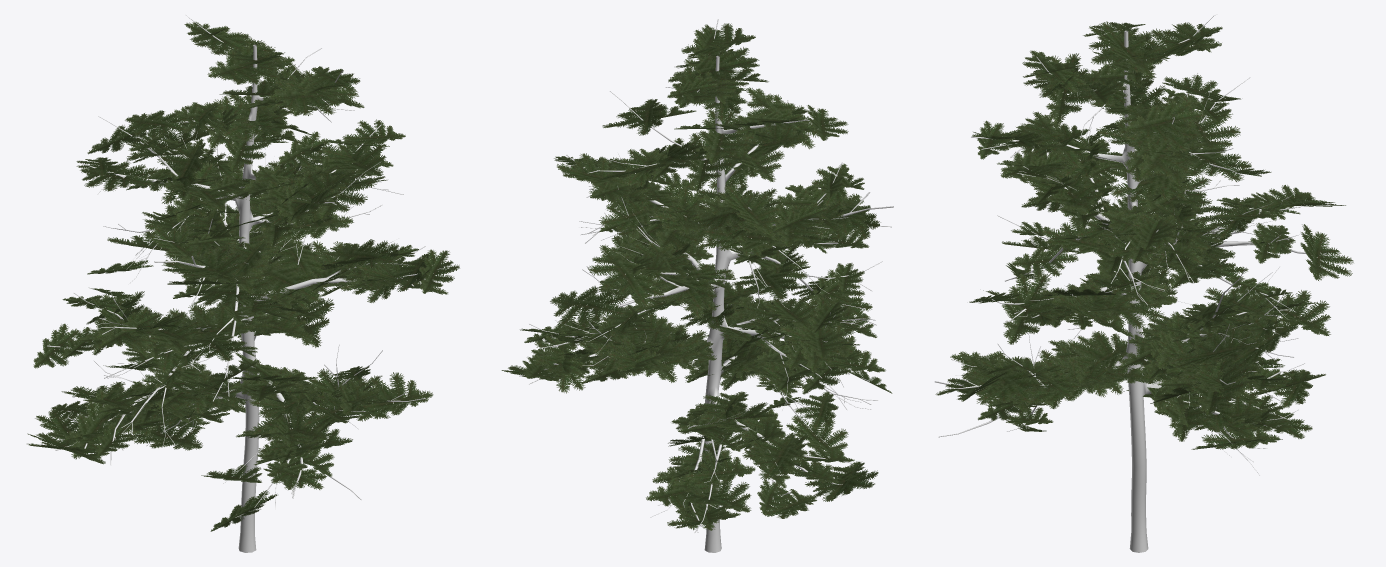
Rendered from Pine.fbx.
The picture shows the model from 3 angles, left to right: view 1: azimuth 30°, elevation 25°; view 2: azimuth 150°, elevation 25°; view 3: azimuth 270°, elevation 25°; orthographic projection. The views are drawn at different scales.
Visible parts, largest first — view 1: tree.003|pngtree-natural-pine-tree-branch-close-up-element-p (×69), tree.003; view 2: tree.003|pngtree-natural-pine-tree-branch-close-up-element-p (×84), tree.003; view 3: tree.003|pngtree-natural-pine-tree-branch-close-up-element-p (×66), tree.003.
Part boxes in pixels (x1,y1,x2,y2): tree.003|pngtree-natural-pine-tree-branch-close-up-element-p (×69): (27, 22, 459, 531); tree.003: (47, 14, 441, 552); tree.003|pngtree-natural-pine-tree-branch-close-up-element-p (×84): (531, 23, 885, 528); tree.003: (519, 19, 893, 552); tree.003|pngtree-natural-pine-tree-branch-close-up-element-p (×66): (950, 21, 1353, 449); tree.003: (934, 14, 1330, 552).
Bounding box in the file's own units: 1448 × 1863 × 1427.
